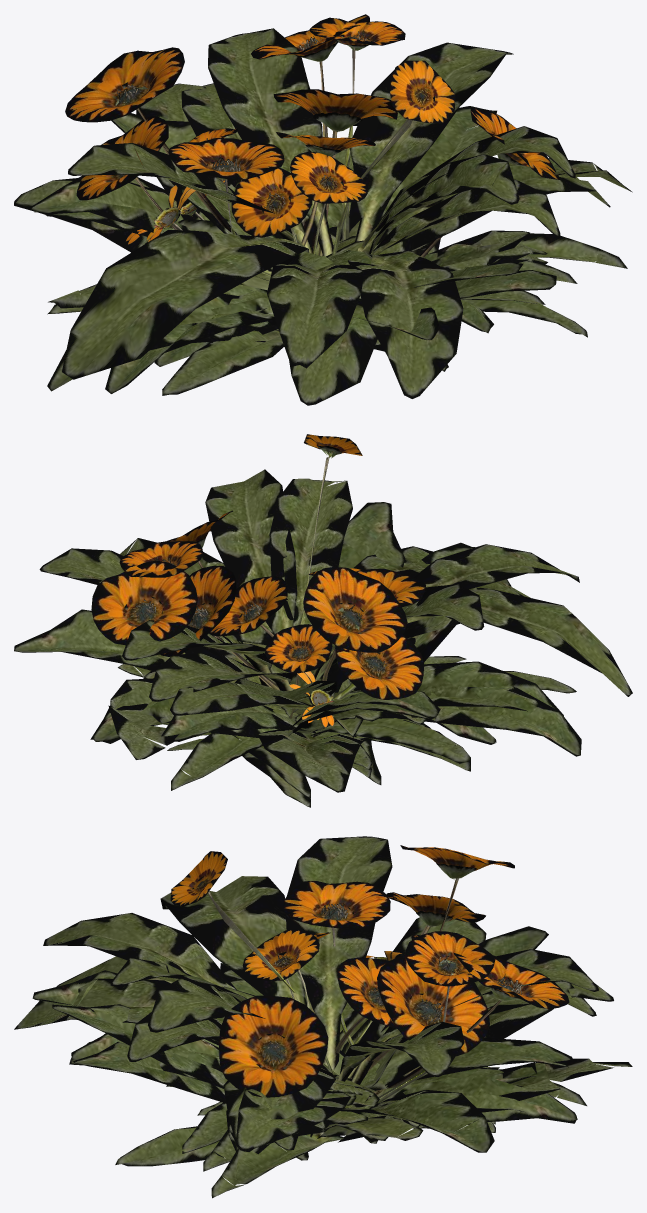
Rendered from ph_flower_gazania.glb.
3 views of the same model, one above another, from view 1: azimuth 30°, elevation 25°; view 2: azimuth 150°, elevation 25°; view 3: azimuth 270°, elevation 25° (orthographic). The views are drawn at different scales.
Parts seen in each view (by area): view 1: v0, v2, v1, v3, v4, v6, v5; view 2: v0, v2, v1, v3, v4, v5, v6; view 3: v0, v2, v1, v4, v3, v6, v5.
Part boxes in pixels (<box>): v0: <box>62,17,632,398</box>; v2: <box>14,83,610,391</box>; v1: <box>105,14,577,405</box>; v3: <box>30,128,547,311</box>; v4: <box>162,132,529,395</box>; v6: <box>211,150,587,371</box>; v5: <box>34,210,547,314</box>; v0: <box>14,434,632,790</box>; v2: <box>158,542,581,792</box>; v1: <box>91,510,563,727</box>; v3: <box>144,568,470,798</box>; v4: <box>161,576,576,784</box>; v5: <box>143,646,470,807</box>; v6: <box>90,638,496,744</box>; v0: <box>14,836,632,1198</box>; v2: <box>32,892,613,1153</box>; v1: <box>56,932,596,1171</box>; v4: <box>71,957,572,1150</box>; v3: <box>209,881,499,1154</box>; v6: <box>69,1002,577,1166</box>; v5: <box>205,1038,495,1151</box>.
Size of the model in its own units: 0.338 by 0.1642 by 0.3267.
1 material, 1 textured.
